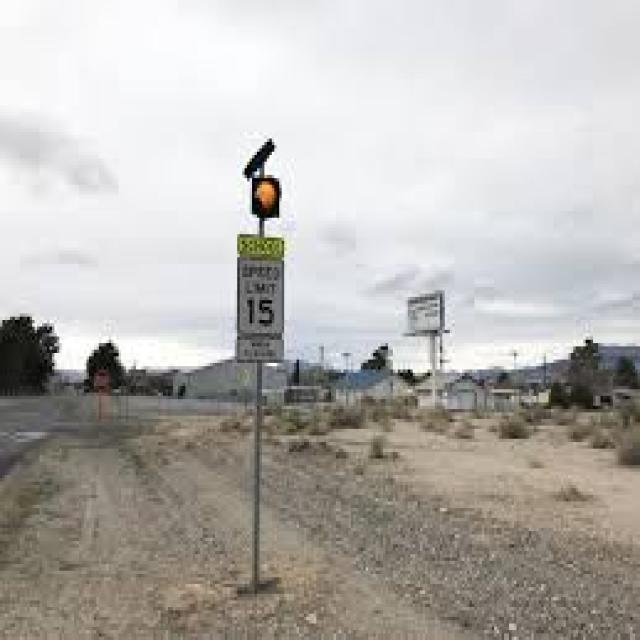speedLimit15: (233, 254, 288, 333)
